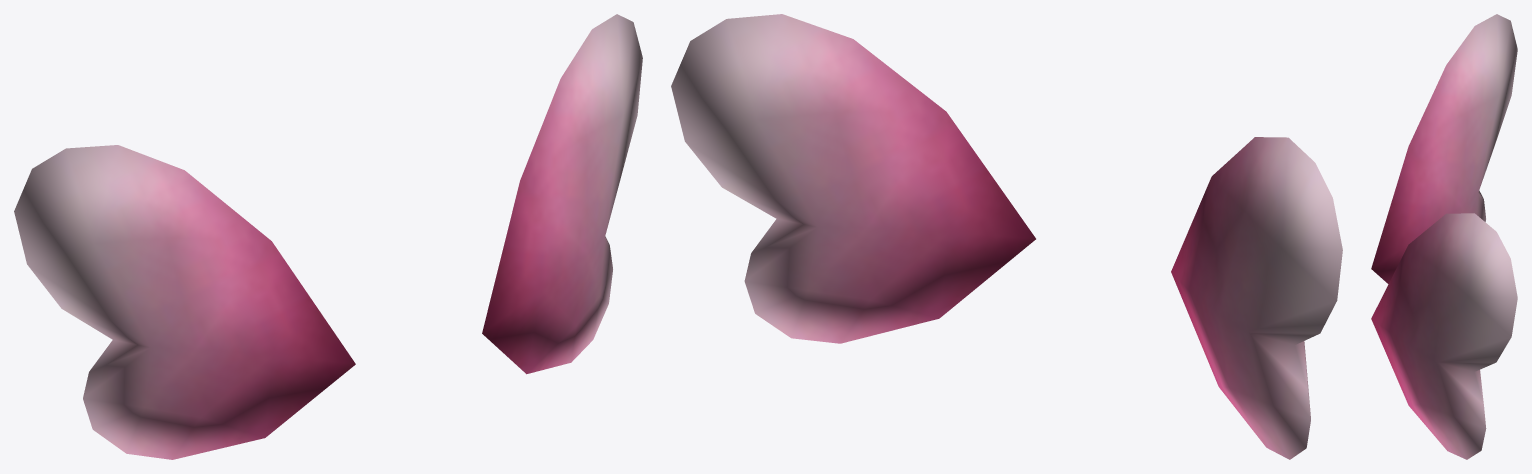
File: chaoWings.obj
3 renders of one model, left to right at view 1: azimuth 30°, elevation 25°; view 2: azimuth 150°, elevation 25°; view 3: azimuth 270°, elevation 25°, orthographic. The views are drawn at different scales.
Visible parts, largest first — view 1: chd_b_M.008; view 2: chd_b_M.008; view 3: chd_b_M.008.
Part boxes in pixels (x1=…): chd_b_M.008: x1=14, y1=14, x2=642, y2=459; chd_b_M.008: x1=671, y1=14, x2=1342, y2=459; chd_b_M.008: x1=1371, y1=14, x2=1517, y2=459.
Bounding box in the file's own units: 5.79 × 2.74 × 1.44.
Materials: 1 (1 with a texture image).
